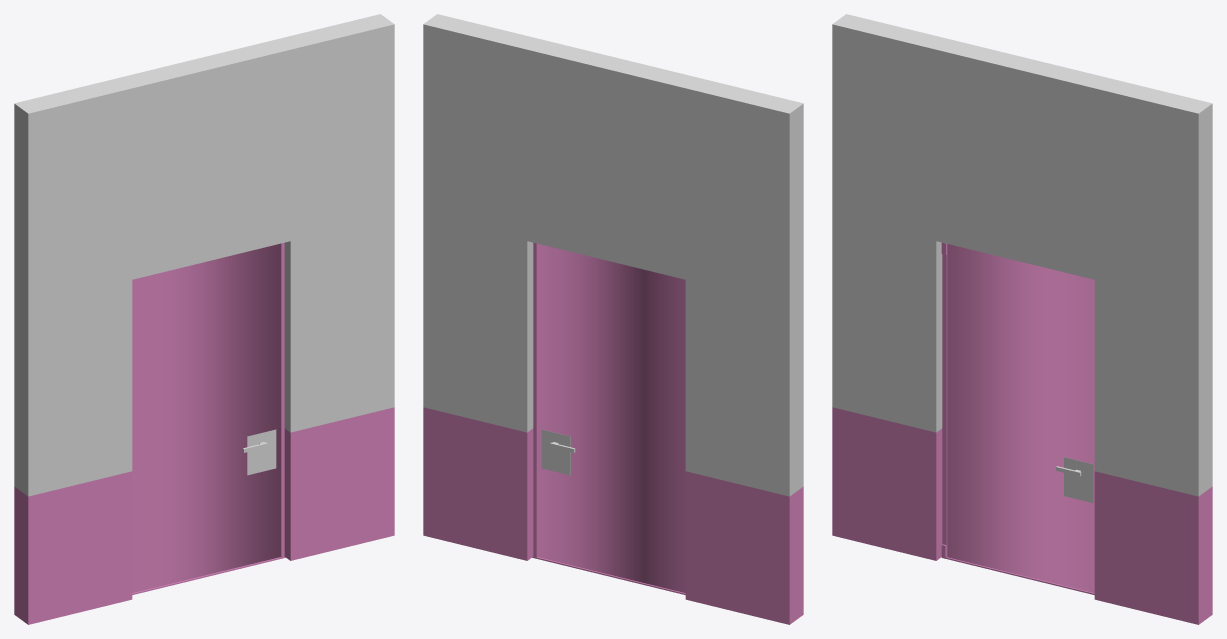
File: WallOffice7Test.fbx
The picture shows the model from 3 angles, left to right: view 1: azimuth 30°, elevation 25°; view 2: azimuth 150°, elevation 25°; view 3: azimuth 330°, elevation 25°; orthographic projection.
Visible parts, largest first — view 1: WallOffice4; view 2: WallOffice4; view 3: WallOffice4.
Part boxes in pixels (x1,y1,x2,y2): WallOffice4: [14, 14, 394, 624]; WallOffice4: [423, 14, 803, 624]; WallOffice4: [832, 14, 1212, 624].
Size of the model in its own units: 300 by 401 by 20.01.
